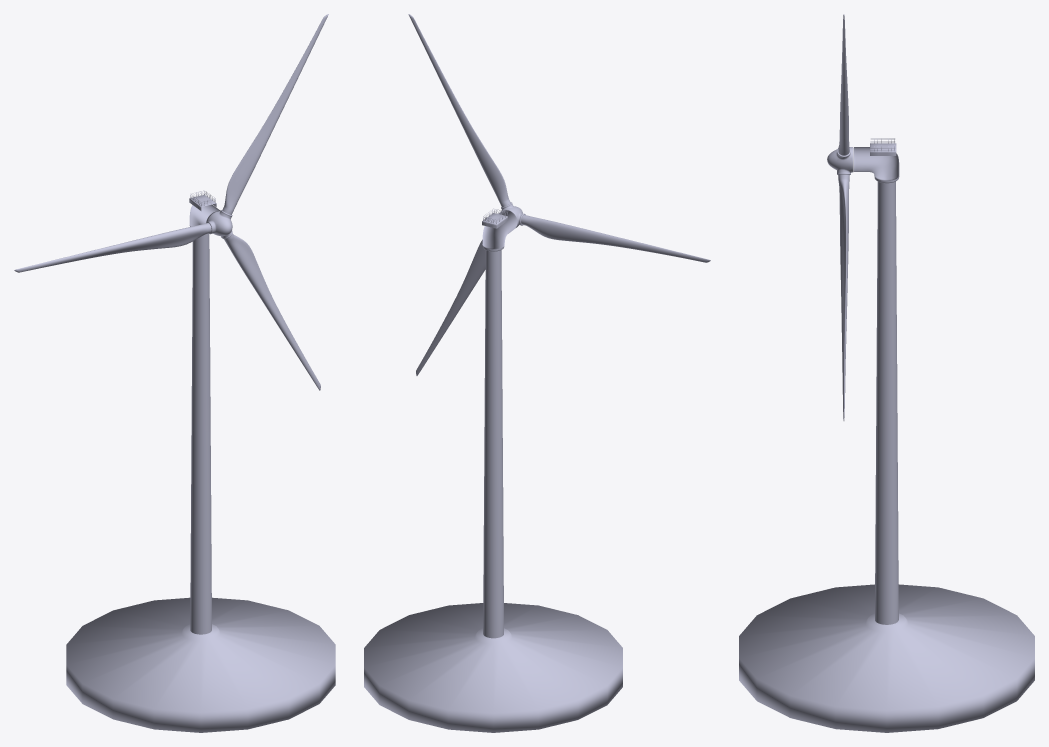
File: banzhiqu_baiseshiti.glb
3 views of the same model, side by side, from view 1: azimuth 30°, elevation 25°; view 2: azimuth 150°, elevation 25°; view 3: azimuth 270°, elevation 25° (orthographic). The views are drawn at different scales.
Parts seen in each view (by area): view 1: banzhiqu_baiseshiti_jichu, banzhiqu_baiseshiti_tatong, baiseshiti_yelun; view 2: banzhiqu_baiseshiti_jichu, banzhiqu_baiseshiti_tatong, baiseshiti_yelun, baiseshiti_jicang; view 3: banzhiqu_baiseshiti_jichu, banzhiqu_baiseshiti_tatong, baiseshiti_yelun, baiseshiti_jicang.
Boxes of the visible parts, x1=… form: banzhiqu_baiseshiti_jichu: x1=66, y1=597, x2=335, y2=732; banzhiqu_baiseshiti_tatong: x1=190, y1=233, x2=211, y2=634; baiseshiti_yelun: x1=14, y1=14, x2=328, y2=390; banzhiqu_baiseshiti_jichu: x1=364, y1=603, x2=622, y2=732; banzhiqu_baiseshiti_tatong: x1=483, y1=246, x2=504, y2=638; baiseshiti_yelun: x1=408, y1=14, x2=710, y2=375; baiseshiti_jicang: x1=482, y1=210, x2=517, y2=249; banzhiqu_baiseshiti_jichu: x1=739, y1=584, x2=1034, y2=732; banzhiqu_baiseshiti_tatong: x1=874, y1=176, x2=899, y2=624; baiseshiti_yelun: x1=827, y1=14, x2=853, y2=420; baiseshiti_jicang: x1=854, y1=147, x2=899, y2=180.
Bounding box in the file's own units: 7338 × 14012 × 5270.
